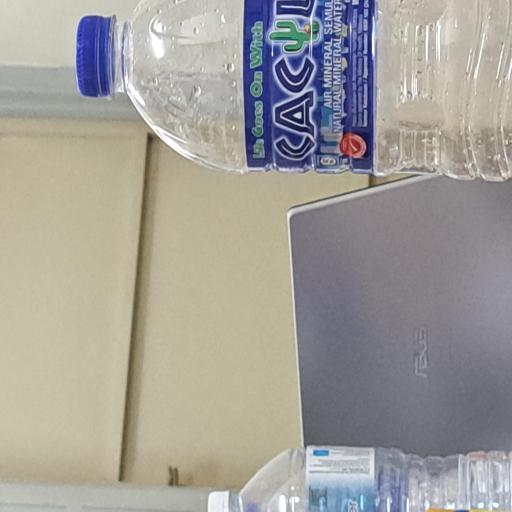plastic bottle: (248, 160, 383, 512), (0, 310, 49, 512)
plastic bottle cap: (310, 101, 373, 151), (0, 265, 19, 309)
